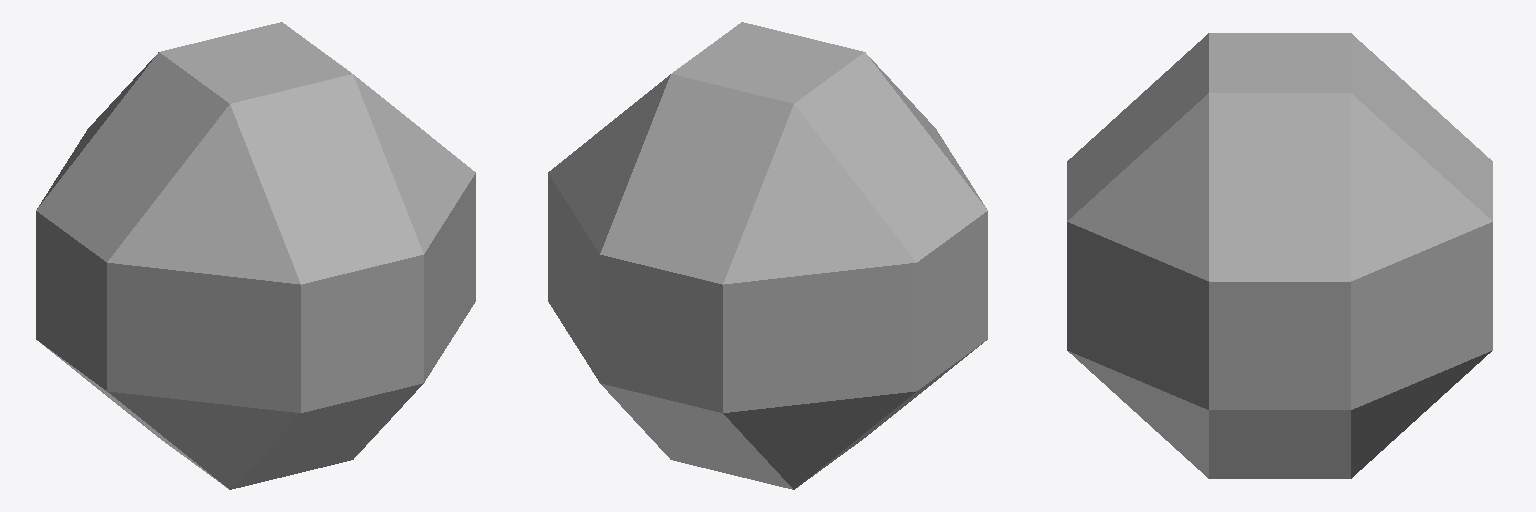
The model's file is Point.obj.
The picture shows the model from 3 angles: view 1: azimuth 30°, elevation 25°; view 2: azimuth 150°, elevation 25°; view 3: azimuth 270°, elevation 25°; orthographic projection.
Parts seen in each view (by area): view 1: octotoad1; view 2: octotoad1; view 3: octotoad1.
Boxes of the visible parts, x1=… form: octotoad1: x1=36, y1=22, x2=475, y2=489; octotoad1: x1=548, y1=22, x2=987, y2=489; octotoad1: x1=1067, y1=33, x2=1492, y2=478.
Size of the model in its own units: 0.0847 by 0.0847 by 0.0847.